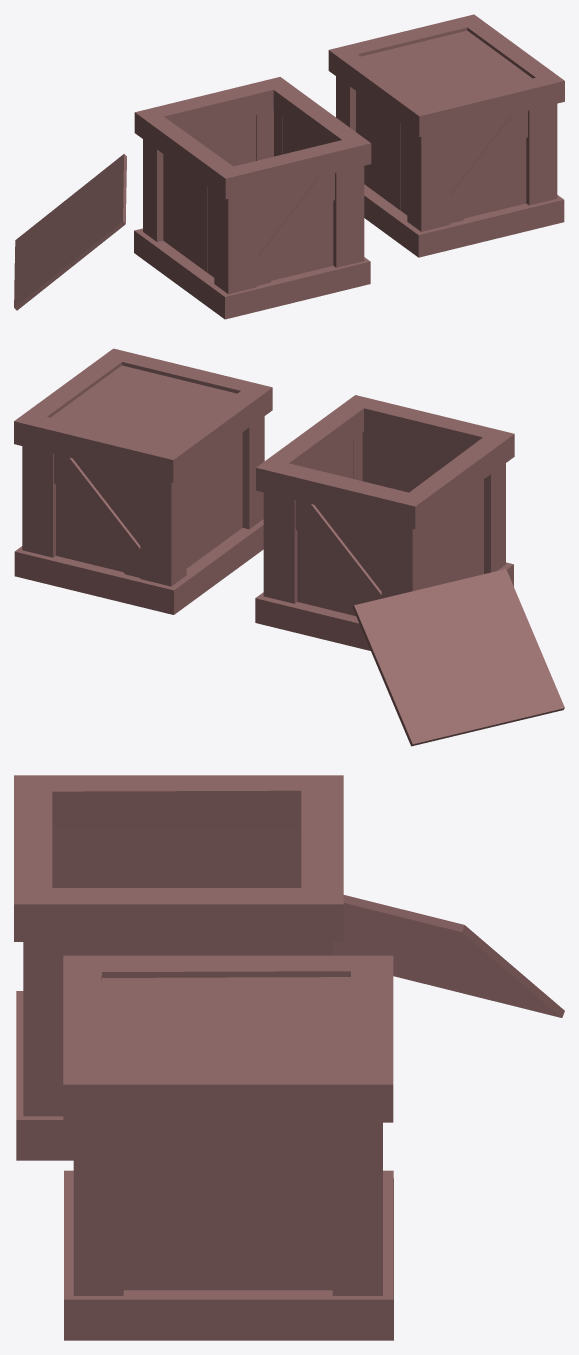
File: caisse_en_bois_texture.fbx
3 views of the same model, one above another, from view 1: azimuth 30°, elevation 25°; view 2: azimuth 150°, elevation 25°; view 3: azimuth 270°, elevation 25° (orthographic). The views are drawn at different scales.
Parts seen in each view (by area): view 1: caisse_02, caisse_01; view 2: caisse_02, caisse_01; view 3: caisse_01, caisse_02.
Boxes of the visible parts, <box> form: caisse_02: <box>14,77,371,319</box>; caisse_01: <box>328,14,564,257</box>; caisse_02: <box>255,395,564,746</box>; caisse_01: <box>14,348,272,614</box>; caisse_01: <box>63,955,393,1340</box>; caisse_02: <box>14,775,564,1160</box>.
Size of the model in its own units: 4.93 by 1.6 by 2.69.
1 material, 1 textured.
